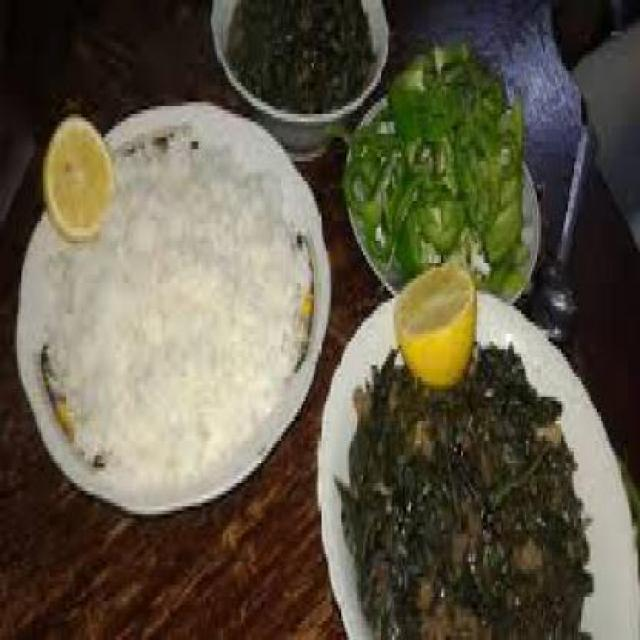fried rice: (37, 130, 295, 487)
molokhia: (339, 333, 590, 636)
